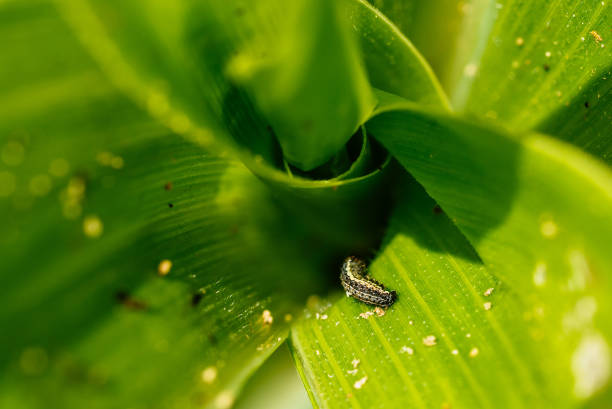Armyworm: (334, 250, 403, 316)
